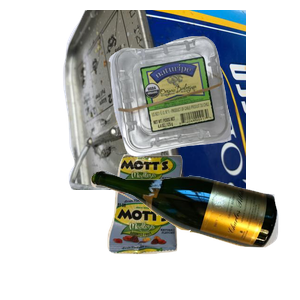glass: (88, 167, 300, 300)
metal: (60, 10, 300, 190)
plastic: (106, 34, 300, 183)
trash: (105, 152, 280, 300)
